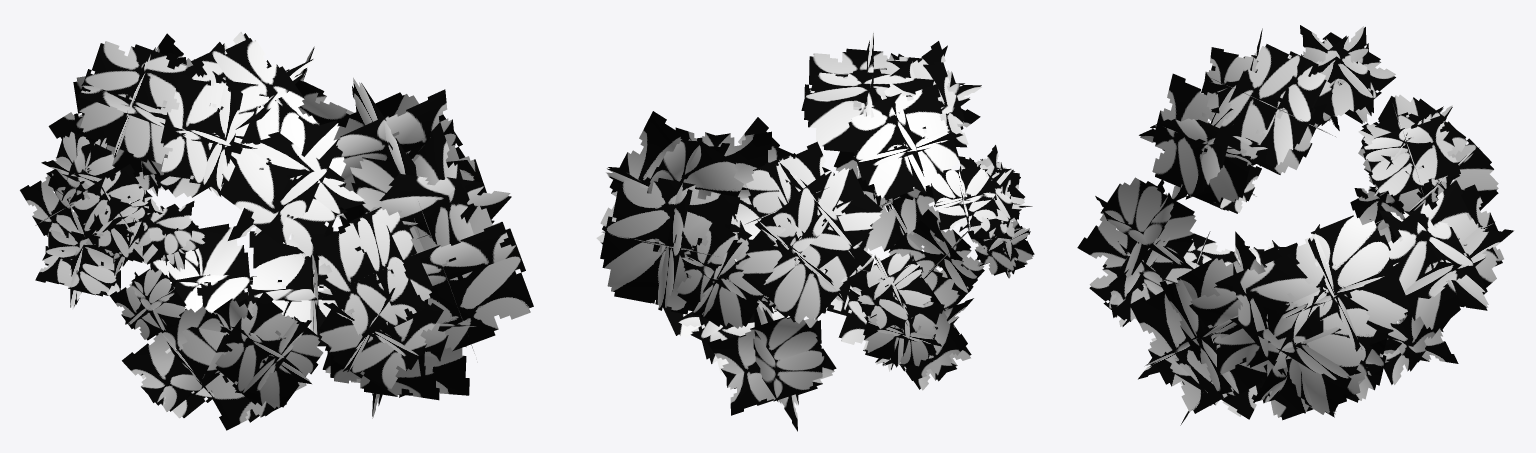
File: SM_Pixel_Bush_C.fbx
The picture shows the model from 3 angles, left to right: view 1: azimuth 30°, elevation 25°; view 2: azimuth 150°, elevation 25°; view 3: azimuth 270°, elevation 25°; orthographic projection. The views are drawn at different scales.
Parts seen in each view (by area): view 1: SM_Pixel_Bush_C; view 2: SM_Pixel_Bush_C; view 3: SM_Pixel_Bush_C.
Part boxes in pixels (x1,y1,x2,y2): SM_Pixel_Bush_C: (20, 32, 533, 430); SM_Pixel_Bush_C: (596, 31, 1034, 431); SM_Pixel_Bush_C: (1077, 25, 1513, 425).
Bounding box in the file's own units: 187 × 158 × 185.
